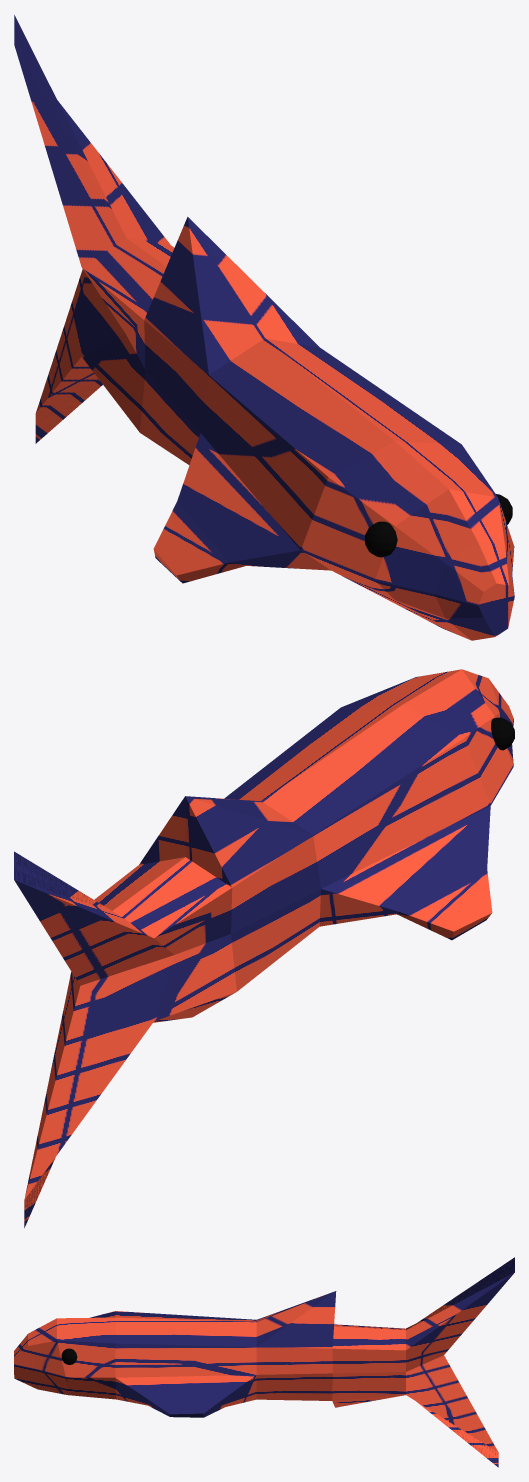
File: Fish6.glb
3 renders of one model, top to bottom at view 1: azimuth 30°, elevation 25°; view 2: azimuth 150°, elevation 25°; view 3: azimuth 270°, elevation 25°, orthographic. The views are drawn at different scales.
Parts seen in each view (by area): view 1: Cylinder; view 2: Cylinder; view 3: Cylinder.
Boxes of the visible parts, x1,y1,x2,y2 form: Cylinder: (14,15,514,640); Cylinder: (14,669,514,1227); Cylinder: (14,1257,514,1467).
Size of the model in its own units: 0.0881 by 0.1177 by 0.2552.
Materials: 2 (1 with a texture image).
